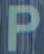Parking: (4, 1, 40, 53)
